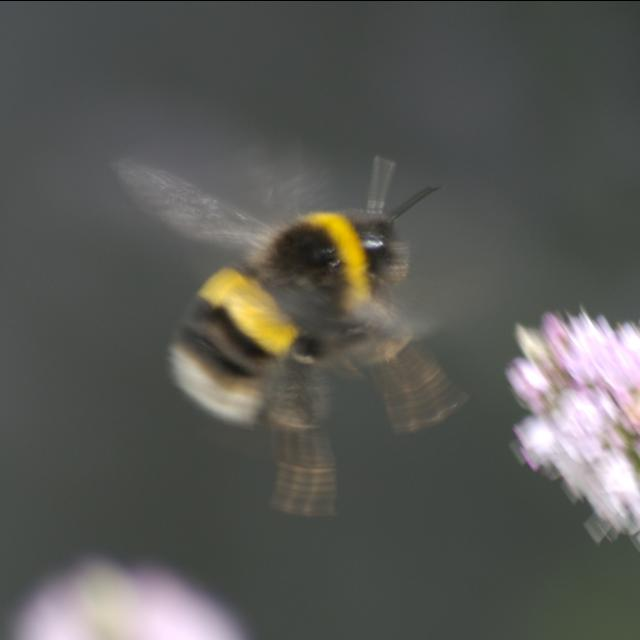Flower: (513, 294, 631, 544)
